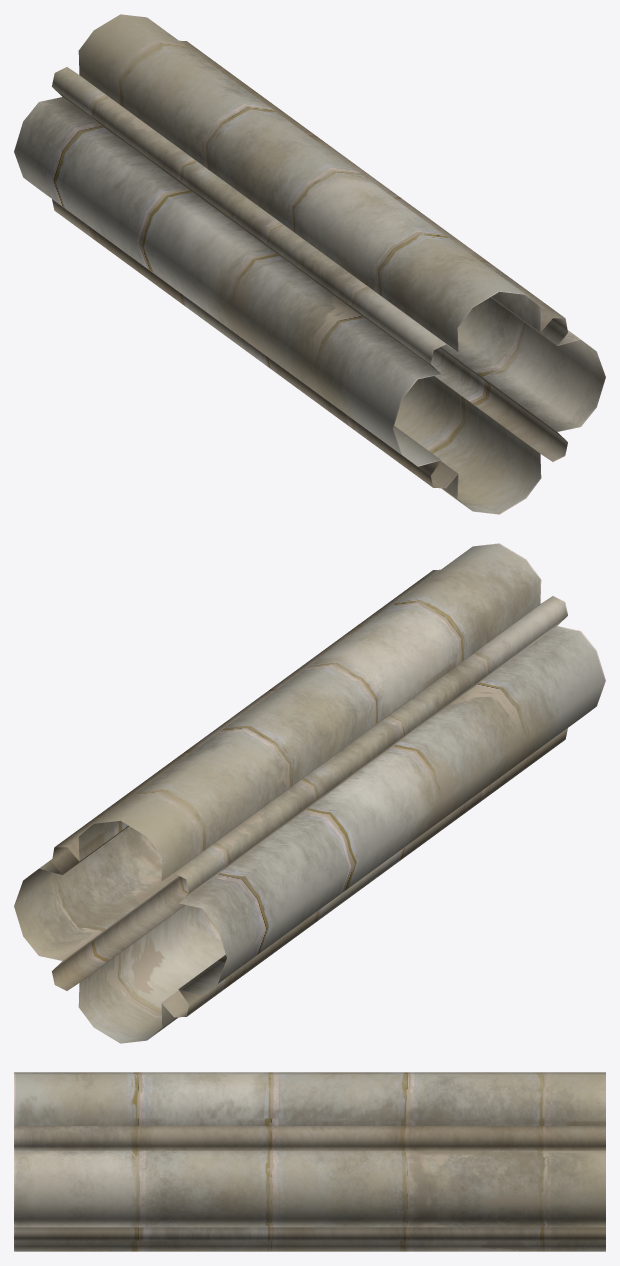
Rendered from Cath_Column_part2b.FBX.
The picture shows the model from 3 angles, top to bottom: view 1: azimuth 30°, elevation 25°; view 2: azimuth 150°, elevation 25°; view 3: azimuth 270°, elevation 25°; orthographic projection. The views are drawn at different scales.
Visible parts, largest first — view 1: Cath_Column_part2b; view 2: Cath_Column_part2b; view 3: Cath_Column_part2b.
Part boxes in pixels (x1,y1,x2,y2): Cath_Column_part2b: (14, 14, 605, 514); Cath_Column_part2b: (14, 543, 605, 1043); Cath_Column_part2b: (14, 1072, 605, 1251).
Bounding box in the file's own units: 120 × 371 × 120.
